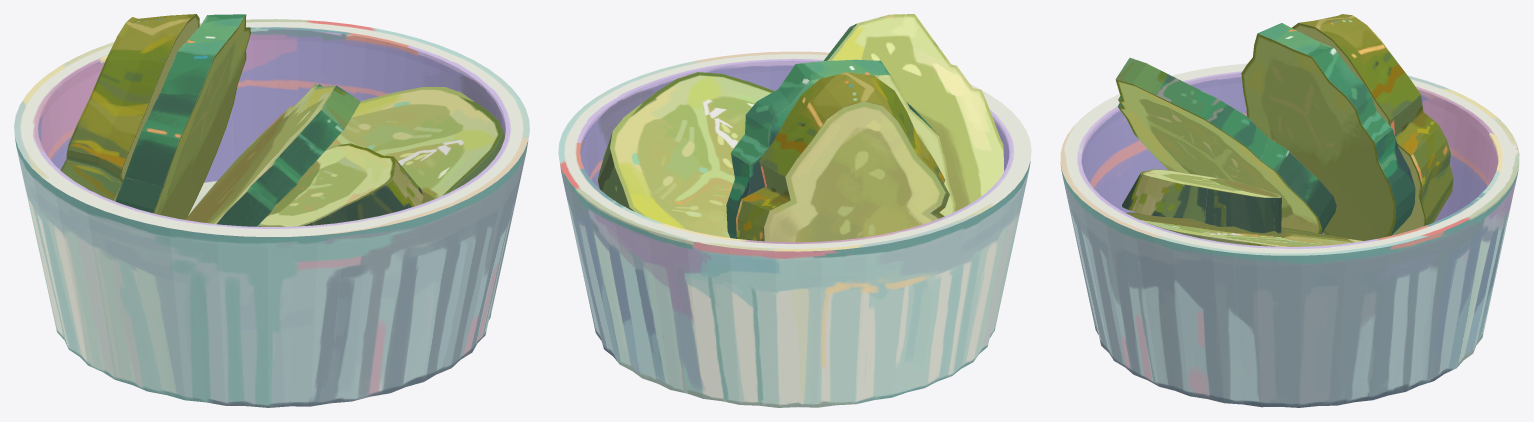
File: portal_2.glb
3 renders of one model, left to right at view 1: azimuth 30°, elevation 25°; view 2: azimuth 150°, elevation 25°; view 3: azimuth 270°, elevation 25°, orthographic. The views are drawn at different scales.
Visible parts, largest first — view 1: Cylinder_6, Cylinder.003_3, Cylinder.001_5, Cylinder.002_4, Cylinder.005_1, Cylinder.004_2; view 2: Cylinder_6, Cylinder.001_5, Cylinder.002_4, Cylinder.005_1, Cylinder.003_3; view 3: Cylinder_6, Cylinder.003_3, Cylinder.005_1, Cylinder.001_5, Cylinder.004_2, Cylinder.002_4.
Boxes of the visible parts, x1,y1,x2,y2 form: Cylinder_6: (14,19,529,407); Cylinder.003_3: (115,14,250,219); Cylinder.001_5: (60,14,199,201); Cylinder.002_4: (327,87,504,204); Cylinder.005_1: (185,84,360,226); Cylinder.004_2: (257,143,423,226); Cylinder_6: (558,51,1031,407); Cylinder.001_5: (736,72,949,242); Cylinder.002_4: (598,72,774,237); Cylinder.005_1: (823,14,1003,211); Cylinder.003_3: (726,59,955,238); Cylinder_6: (1060,63,1519,407); Cylinder.003_3: (1241,23,1415,240); Cylinder.005_1: (1115,57,1336,233); Cylinder.001_5: (1292,14,1453,235); Cylinder.004_2: (1122,169,1281,233); Cylinder.002_4: (1126,212,1363,246).
Size of what is drawn, in the model's own units: 0.1425 by 0.0921 by 0.1425.
1 material, 1 textured.
